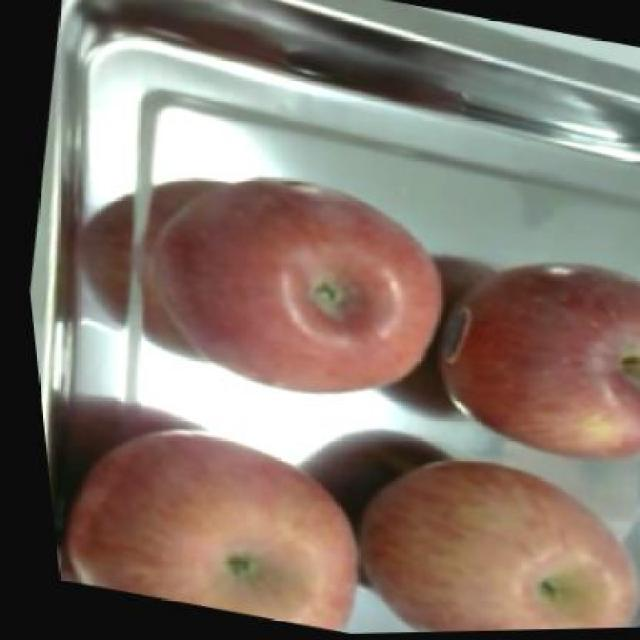Fresh Apple: (140, 176, 438, 395), (69, 434, 358, 640), (357, 463, 640, 640), (449, 249, 640, 463)
